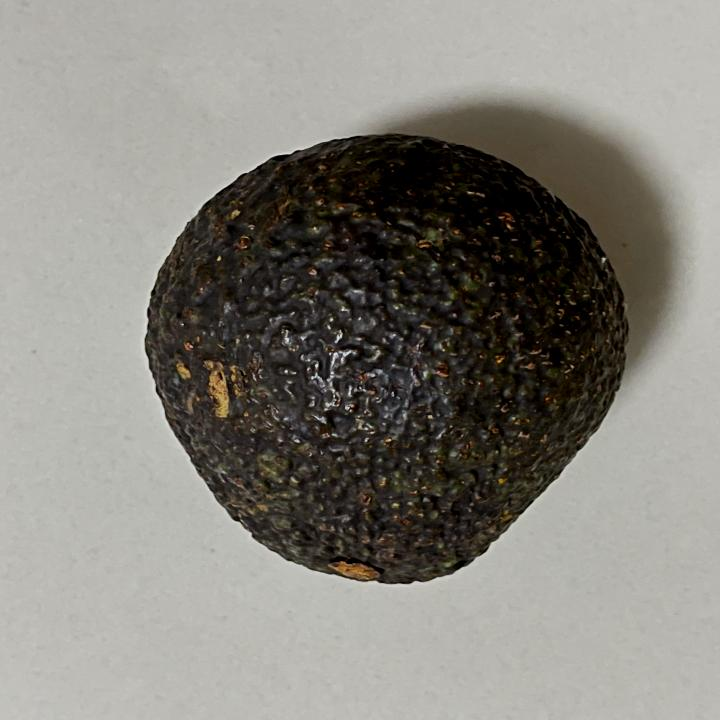Level1: (135, 127, 644, 594)
